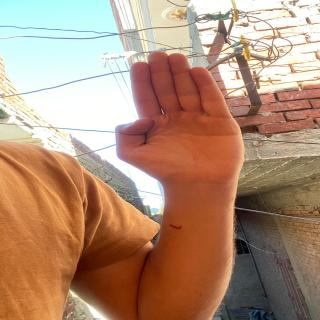SEEN: (106, 49, 258, 189)
